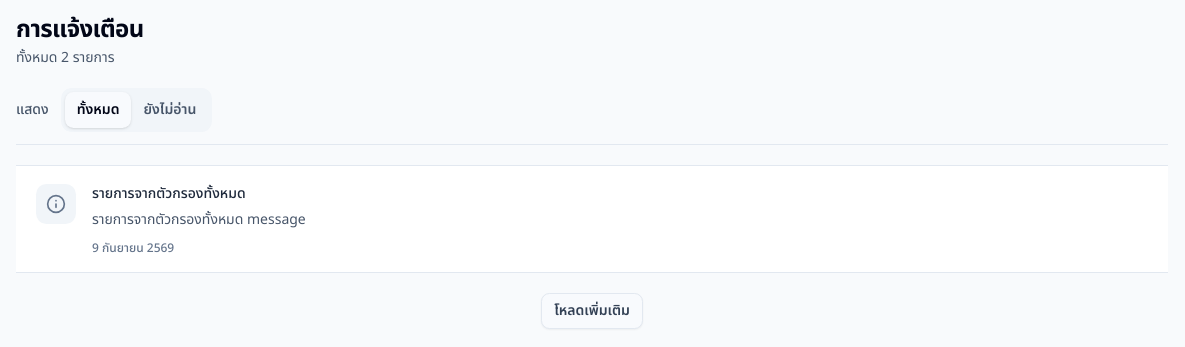
NotificationsSection history pagination › resets the cursor when changing the history filter
Check: the text "รายการจากตัวกรองทั้งหมด" is shown, box x1=92 y1=183 x2=246 y2=204
Click the button "ยังไม่อ่าน" at (170, 110), box x1=132 y1=92 x2=208 y2=128
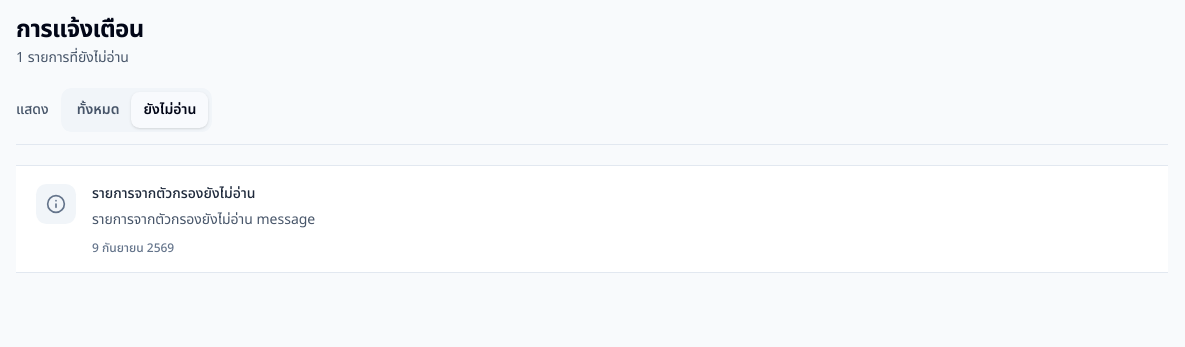
Check: the text "รายการจากตัวกรองยังไม่อ่าน" is shown, box x1=92 y1=183 x2=255 y2=204
Check: the button "รายการจากตัวกรองทั้งหมด" is gone
